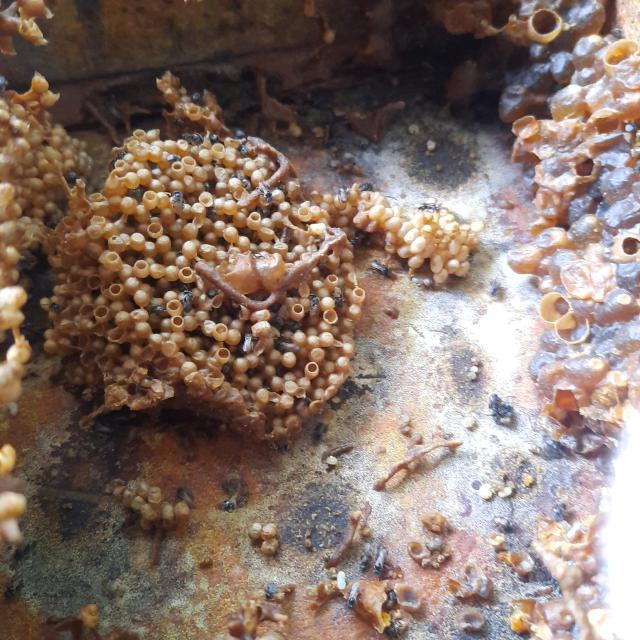honeybee: (354, 540, 372, 569), (369, 260, 395, 280), (180, 288, 197, 312), (259, 182, 275, 205), (178, 488, 194, 511), (347, 583, 360, 610), (374, 547, 387, 573), (266, 583, 280, 603), (171, 191, 186, 209), (488, 278, 502, 297), (337, 185, 351, 202), (358, 183, 376, 193), (416, 204, 438, 212), (239, 142, 250, 158)
